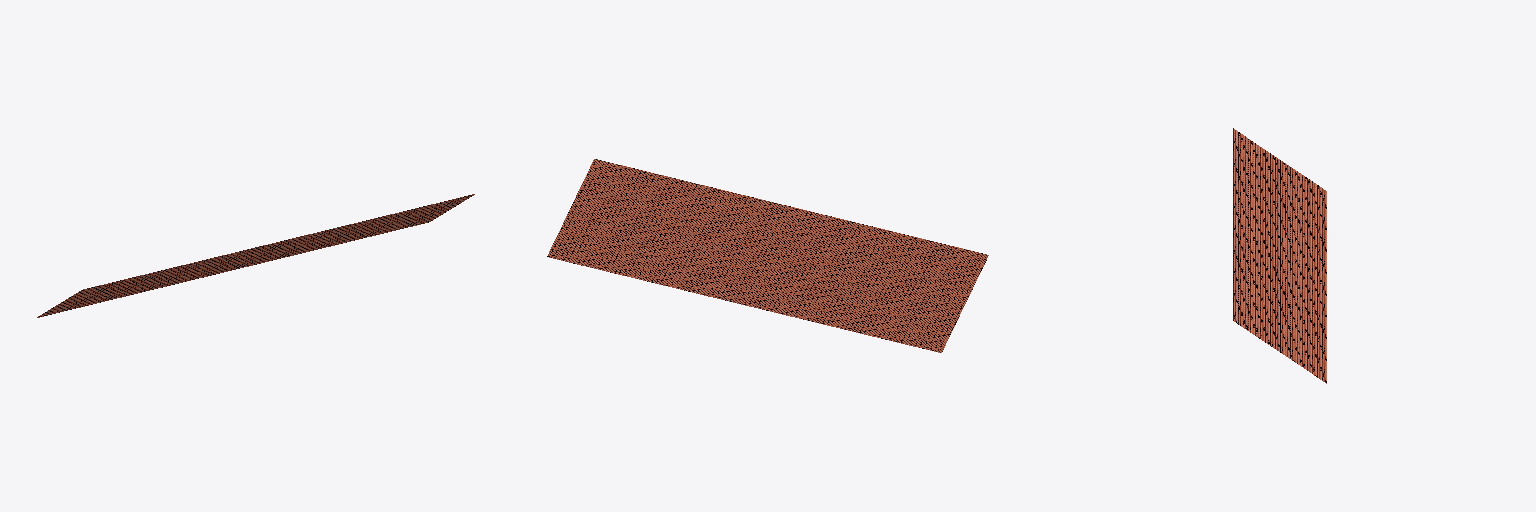
The picture shows the model from 3 angles: view 1: azimuth 30°, elevation 25°; view 2: azimuth 150°, elevation 25°; view 3: azimuth 270°, elevation 25°; orthographic projection.
Parts seen in each view (by area): view 1: Mesh020; view 2: Mesh020; view 3: Mesh020.
Boxes of the visible parts, x1,y1,x2,y2 form: Mesh020: [37, 194, 474, 317]; Mesh020: [547, 159, 988, 352]; Mesh020: [1233, 128, 1326, 383].
Size of the model in its own units: 97.46 by 15.02 by 20.29.
Materials: 1 (1 with a texture image).